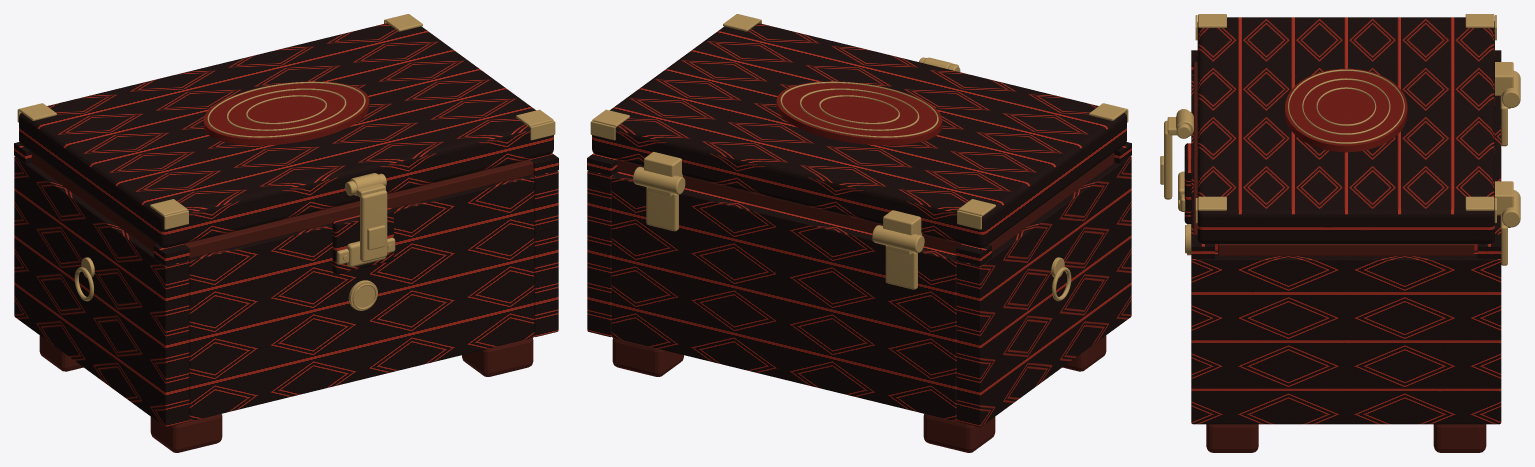
File: myanmar.glb
3 views of the same model, side by side, from view 1: azimuth 30°, elevation 25°; view 2: azimuth 150°, elevation 25°; view 3: azimuth 270°, elevation 25° (orthographic). The views are drawn at different scales.
Parts seen in each view (by area): view 1: Lid / polished slab, Lacquer / front rear skin, Lacquer / side skin, Ornament / vermilion oval, Lacquer seam / long, Lacquer / side skin.001, Lacquer / foot, Lacquer / foot.002, Latch / lifting hasp, Lacquer / clasp seat, Lacquer seam / side, Ornament / brass oval 2 (+4 smaller); view 2: Lid / polished slab, Lacquer / front rear skin.001, Lacquer / side skin, Ornament / vermilion oval, Lacquer / side skin.001, Lacquer seam / long.001, Lacquer / foot.001, Lacquer / foot.003, Lacquer seam / side, Hinge / fixed mount.001, Hinge / fixed mount, Hinge / fixed barrel.001 (+8 smaller); view 3: Lid / polished slab, Lacquer / side skin.001, Ornament / vermilion oval, Lacquer seam / side.001, Lacquer / foot.003, Lacquer / foot.002, Lacquer seam / long, Lacquer / front rear skin.001, Lacquer / clasp seat, Ornament / brass oval 2, Latch / lifting hasp, Hinge / moving leaf (+10 smaller).
Part boxes in pixels (left/top/right/bottom): Lid / polished slab: left=19, top=23, right=553, bottom=248; Lacquer / front rear skin: left=189, top=175, right=534, bottom=421; Lacquer / side skin: left=14, top=156, right=189, bottom=427; Ornament / vermilion oval: left=203, top=81, right=369, bottom=145; Lacquer seam / long: left=184, top=159, right=533, bottom=258; Lacquer / side skin.001: left=532, top=170, right=558, bottom=336; Lacquer / foot: left=150, top=414, right=222, bottom=452; Lacquer / foot.002: left=462, top=338, right=533, bottom=376; Latch / lifting hasp: left=360, top=190, right=387, bottom=261; Lacquer / clasp seat: left=332, top=208, right=393, bottom=274; Lacquer seam / side: left=31, top=153, right=157, bottom=252; Ornament / brass oval 2: left=207, top=81, right=365, bottom=137; Lid / polished slab: left=592, top=23, right=1126, bottom=248; Lacquer / front rear skin.001: left=611, top=171, right=956, bottom=421; Lacquer / side skin: left=956, top=156, right=1131, bottom=427; Ornament / vermilion oval: left=776, top=81, right=942, bottom=145; Lacquer / side skin.001: left=587, top=170, right=618, bottom=336; Lacquer seam / long.001: left=617, top=159, right=961, bottom=253; Lacquer / foot.001: left=923, top=414, right=995, bottom=452; Lacquer / foot.003: left=612, top=338, right=683, bottom=376; Lacquer seam / side: left=988, top=153, right=1114, bottom=252; Hinge / fixed mount.001: left=646, top=187, right=678, bottom=231; Hinge / fixed mount: left=885, top=245, right=917, bottom=289; Hinge / fixed barrel.001: left=633, top=166, right=685, bottom=194; Lid / polished slab: left=1197, top=17, right=1494, bottom=243; Lacquer / side skin.001: left=1191, top=251, right=1501, bottom=424; Ornament / vermilion oval: left=1285, top=68, right=1407, bottom=152; Lacquer seam / side.001: left=1218, top=244, right=1474, bottom=256; Lacquer / foot.003: left=1433, top=424, right=1486, bottom=452; Lacquer / foot.002: left=1206, top=424, right=1258, bottom=452; Lacquer seam / long: left=1193, top=62, right=1197, bottom=234; Lacquer / front rear skin.001: left=1495, top=96, right=1501, bottom=234; Lacquer / clasp seat: left=1184, top=143, right=1193, bottom=223; Ornament / brass oval 2: left=1288, top=69, right=1404, bottom=143; Latch / lifting hasp: left=1164, top=120, right=1172, bottom=199; Hinge / moving leaf: left=1495, top=62, right=1513, bottom=95.
Bounding box in the file's own units: 3.79 × 2.29 × 2.88.
4 materials, 2 textured.
